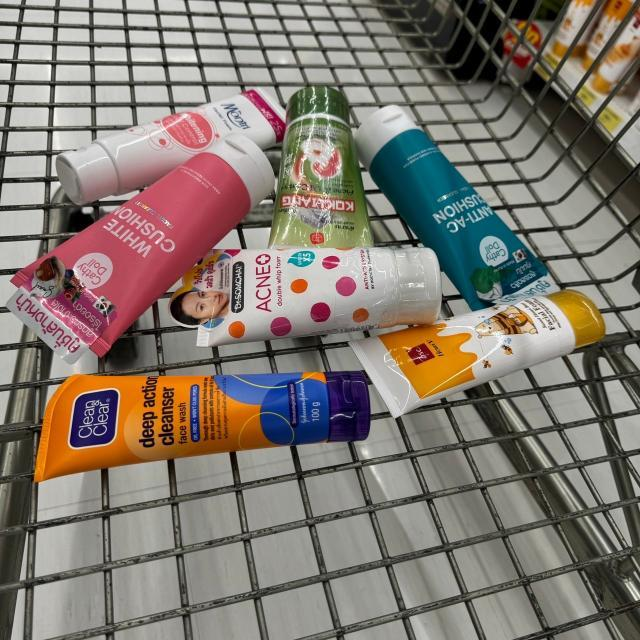Squeeze Tube: (9, 134, 278, 361), (359, 106, 562, 305), (35, 369, 367, 478), (351, 288, 605, 412), (56, 88, 289, 207), (189, 250, 440, 345), (270, 83, 378, 245)
